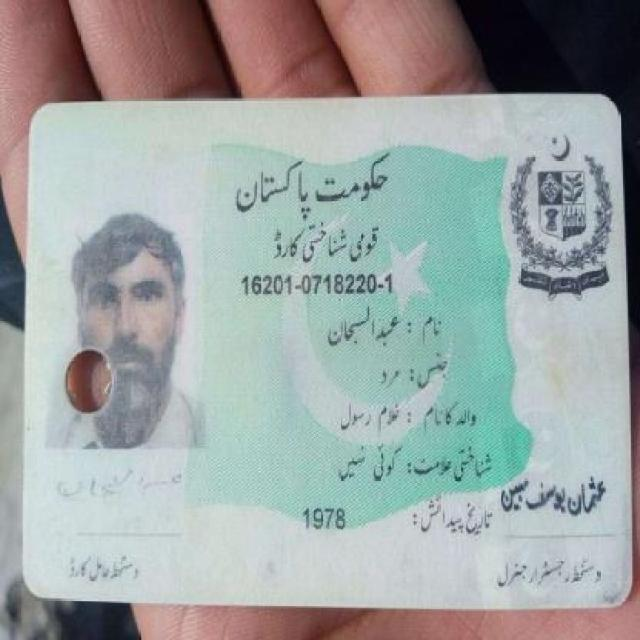Front: (14, 90, 629, 618)
